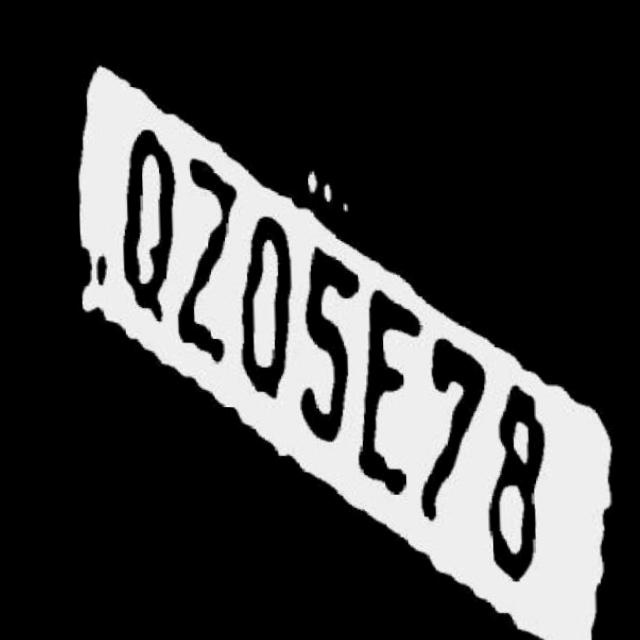5: (292, 249, 361, 456)
7: (411, 334, 495, 541)
8: (485, 375, 562, 582)
e: (357, 290, 428, 489)
o: (237, 209, 299, 415)
q: (113, 125, 182, 317)
z: (173, 156, 251, 366)
